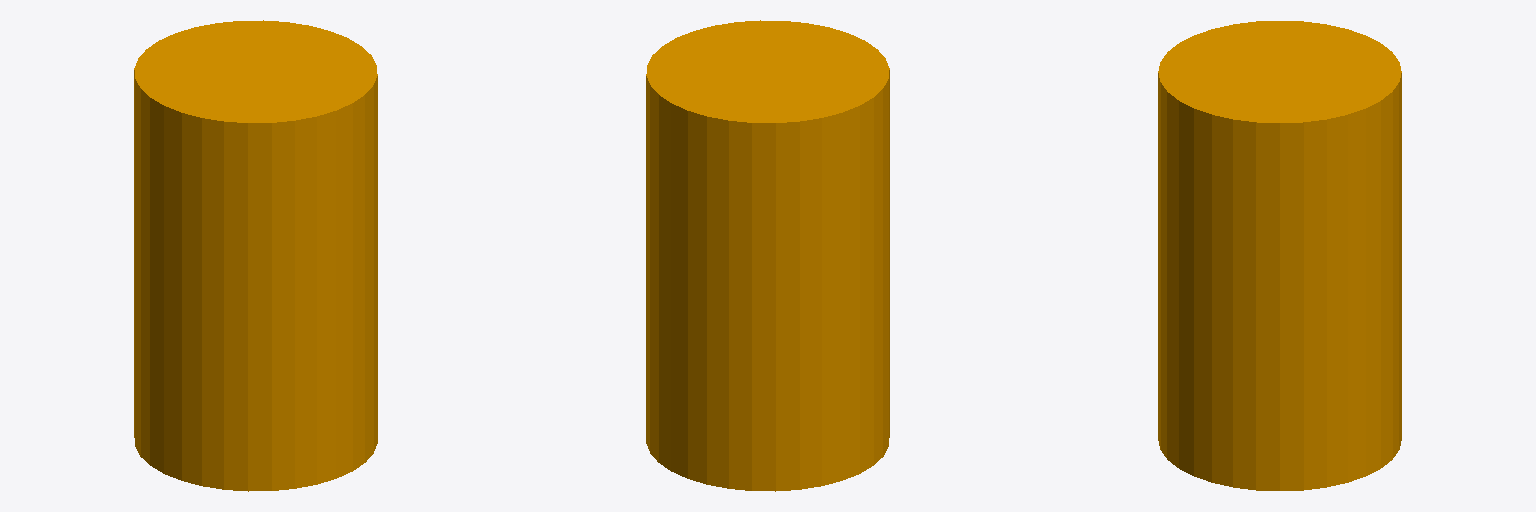
robot.urdf — simple_tag:
<robot name="simple_tag">
  <link name="tag_link">
    <inertial>
      <origin xyz="0 0 0" />
      <mass value="1.0" />
      <inertia  ixx="1.0" ixy="0.0"  ixz="0.0"  iyy="100.0"  iyz="0.0"  izz="1.0" />
    </inertial>
    <visual>
      <origin xyz="0 0 0"/>
      <geometry>
        <cylinder length="0.1" radius="0.03"/>
      </geometry>
    </visual>
    <collision>
      <origin xyz="0 0 0"/>
      <geometry>
        <cylinder length="0.1" radius="0.03"/>
      </geometry>
    </collision>
  </link>
  <gazebo reference="tag_link">
    <material>Gazebo/Blue</material>
    <gravity>0</gravity>
  </gazebo>
  <gazebo>
    <static>true</static>
  </gazebo>
</robot>

--- Render facts (derived) ---
3 views of the same robot in one strip: view 1: azimuth 30°, elevation 25°; view 2: azimuth 150°, elevation 25°; view 3: azimuth 270°, elevation 25° (orthographic).
Robot: simple_tag — 1 links, 0 joints (none); root link tag_link; default pose: every joint at zero.
Visible links, largest first — view 1: tag_link; view 2: tag_link; view 3: tag_link.
Boxes of the visible links, bbox=[...] form: tag_link: bbox=[134, 20, 377, 491]; tag_link: bbox=[646, 20, 889, 491]; tag_link: bbox=[1158, 21, 1401, 490].
Size in the robot's own frame: 0.06 by 0.06 by 0.1 metres.
Geometry: primitives only (box / cylinder / sphere), no mesh files.